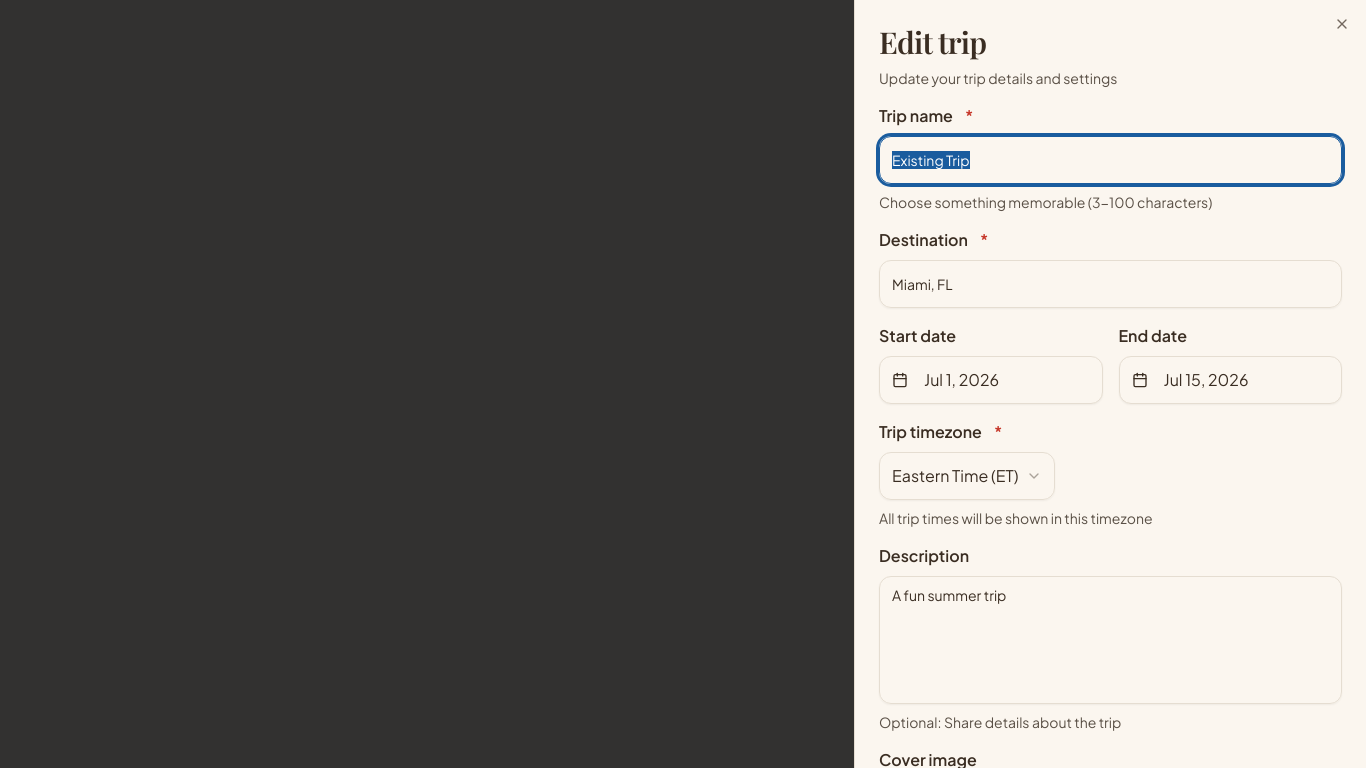
it: EditTripDialog › Field validation › shows error when destination is empty
Clear the field labelled "Destination *": (1110, 284) x1=879 y1=260 x2=1342 y2=308
(page scrolled)
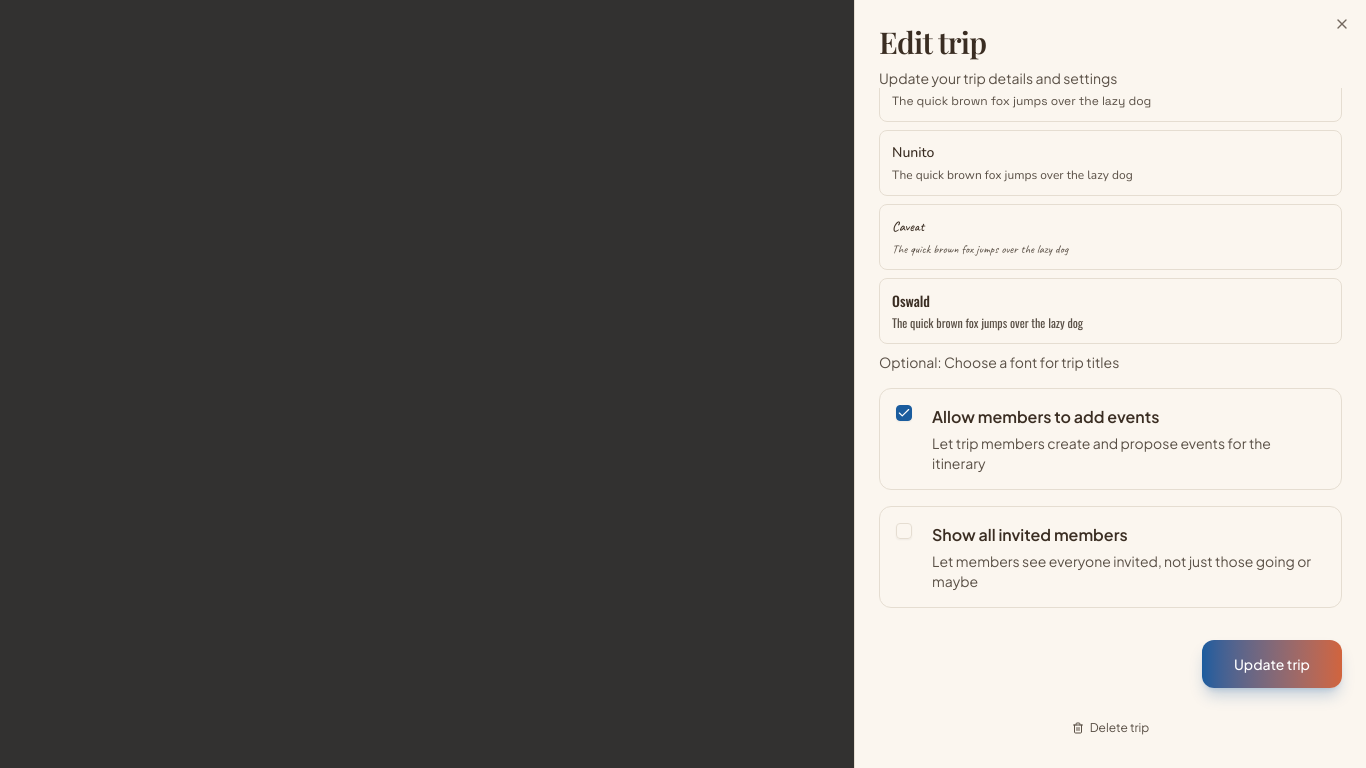
Click the button "Update trip": click(1272, 664) x1=1202 y1=640 x2=1342 y2=688
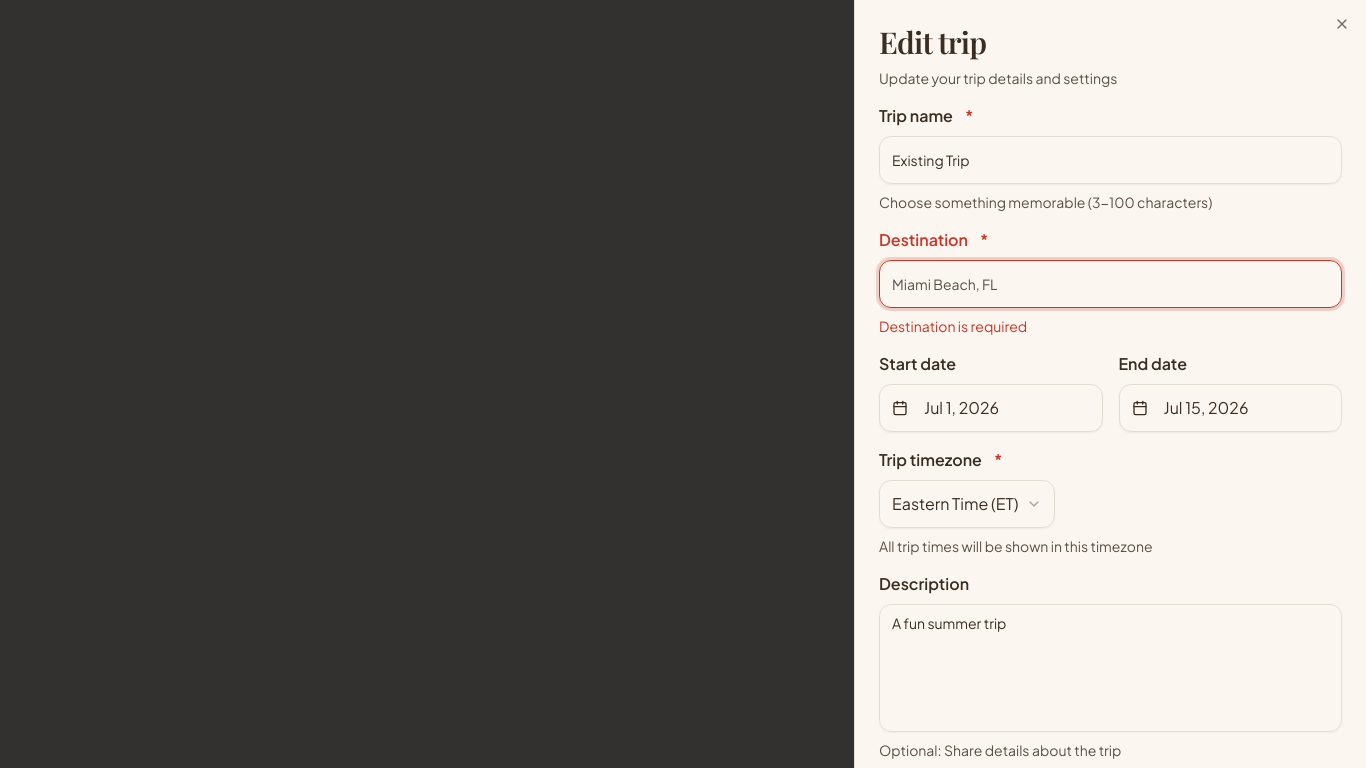
expect the text "Destination is required" is shown: met, box x1=879 y1=317 x2=1027 y2=335
